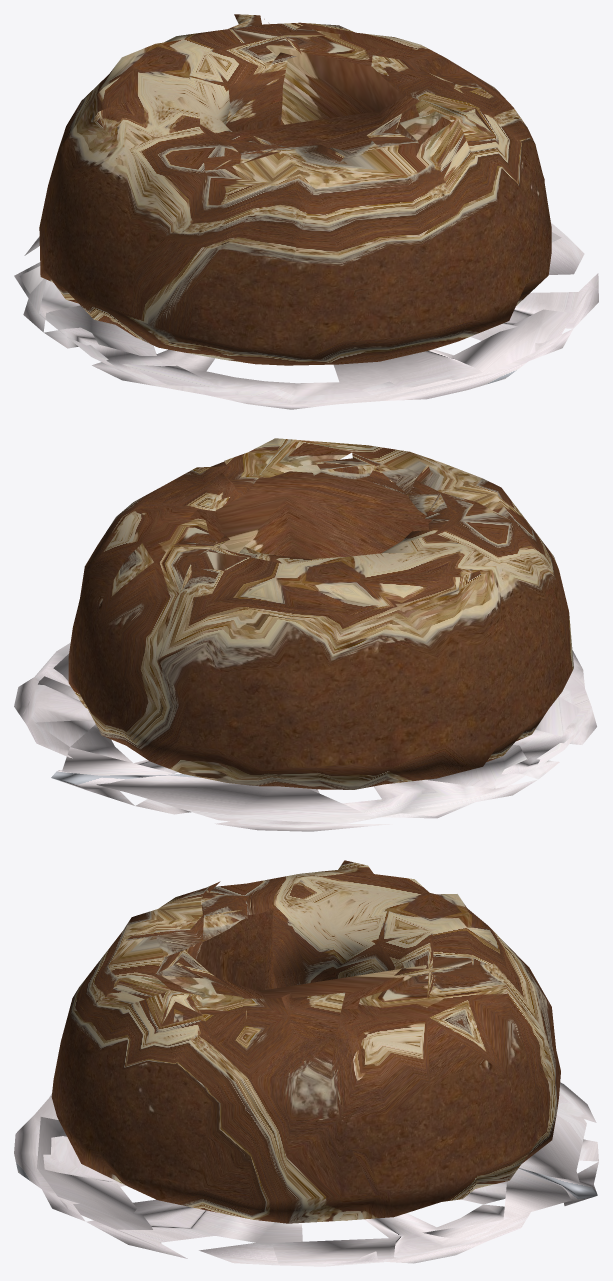
The model's file is whole_cake.gltf.
The picture shows the model from 3 angles, top to bottom: view 1: azimuth 30°, elevation 25°; view 2: azimuth 150°, elevation 25°; view 3: azimuth 270°, elevation 25°; orthographic projection.
Visible parts, largest first — view 1: WholeCake, Plate, WholeCake_Coarse, Plate_Coarse; view 2: WholeCake, Plate, WholeCake_Coarse, Plate_Coarse; view 3: WholeCake, Plate, Plate_Coarse, WholeCake_Coarse.
Part boxes in pixels (box(x1,y1,x2,y2)): WholeCake: box(39, 14, 551, 365); Plate: box(19, 222, 598, 409); WholeCake_Coarse: box(110, 45, 492, 341); Plate_Coarse: box(14, 232, 590, 398); WholeCake: box(68, 438, 573, 789); Plate: box(14, 642, 596, 831); WholeCake_Coarse: box(107, 471, 432, 655); Plate_Coarse: box(23, 654, 590, 822); WholeCake: box(51, 860, 560, 1223); Plate: box(14, 1082, 598, 1266); Plate_Coarse: box(37, 1104, 586, 1263); WholeCake_Coarse: box(155, 905, 519, 1196).
Size of the model in its own units: 0.2483 by 0.1041 by 0.2557.
Materials: 2 (2 with a texture image).
